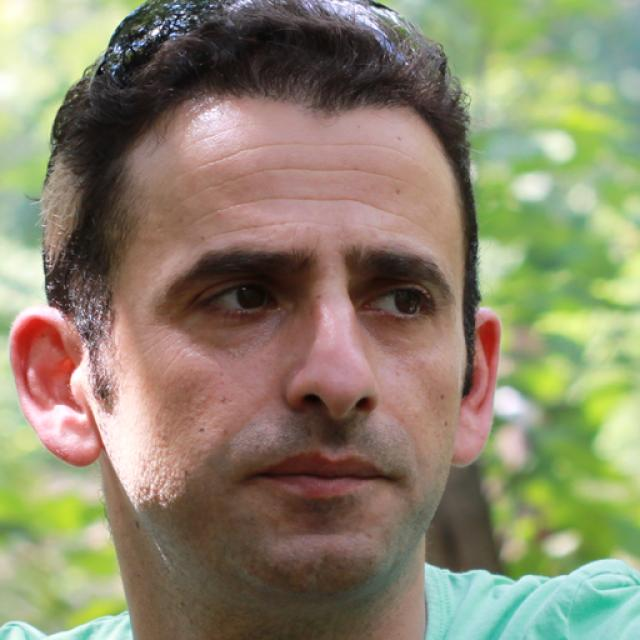Wrinkle: (174, 159, 423, 204), (181, 133, 421, 174), (184, 188, 417, 229)
